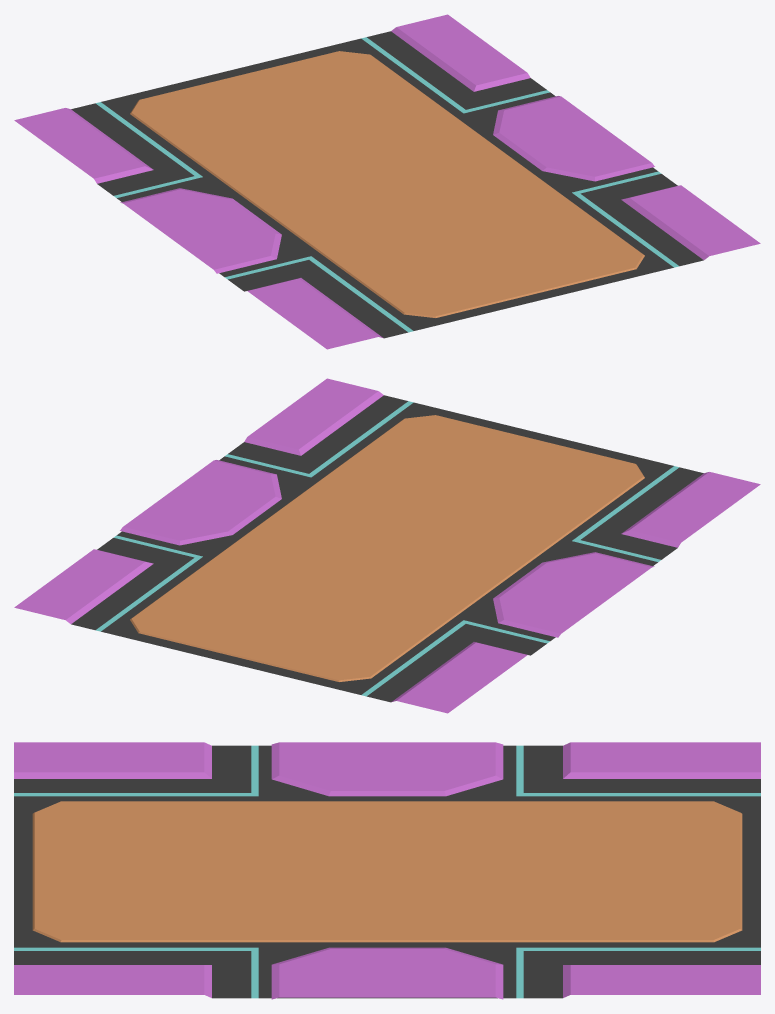
The model's file is HallFloorDoubleRoom.fbx.
3 renders of one model, top to bottom at view 1: azimuth 30°, elevation 25°; view 2: azimuth 150°, elevation 25°; view 3: azimuth 270°, elevation 25°, orthographic. The views are drawn at different scales.
Parts seen in each view (by area): view 1: HallFloorDoubleRoom; view 2: HallFloorDoubleRoom; view 3: HallFloorDoubleRoom.
Boxes of the visible parts, box(x1,y1,x2,y2) form: HallFloorDoubleRoom: box(14, 14, 760, 349); HallFloorDoubleRoom: box(14, 378, 760, 713); HallFloorDoubleRoom: box(14, 742, 760, 999).
Size of the model in its own units: 8.08 by 0.05 by 10.
